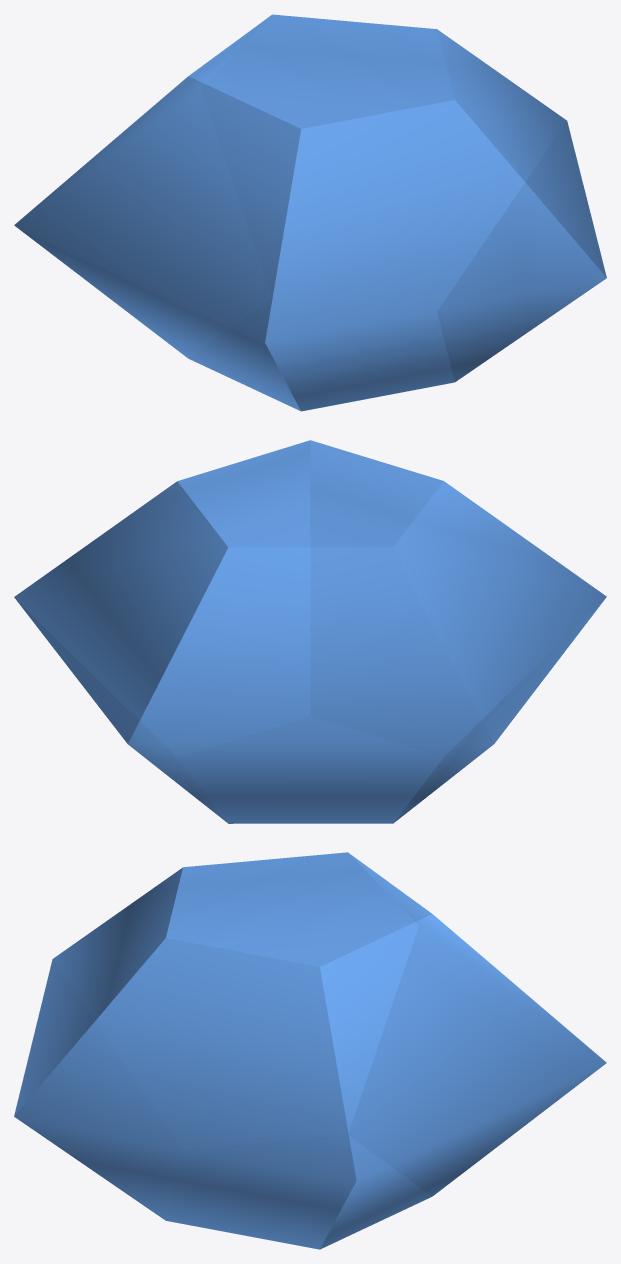
File: gem1a.fbx
3 views of the same model, one above another, from view 1: azimuth 30°, elevation 25°; view 2: azimuth 150°, elevation 25°; view 3: azimuth 270°, elevation 25° (orthographic). The views are drawn at different scales.
Visible parts, largest first — view 1: Crystals_s_01; view 2: Crystals_s_01; view 3: Crystals_s_01.
Boxes of the visible parts, x1=… form: Crystals_s_01: x1=14, y1=14, x2=606, y2=411; Crystals_s_01: x1=14, y1=440, x2=606, y2=823; Crystals_s_01: x1=14, y1=852, x2=606, y2=1249.
Bounding box in the file's own units: 14.52 × 7.51 × 14.28.
